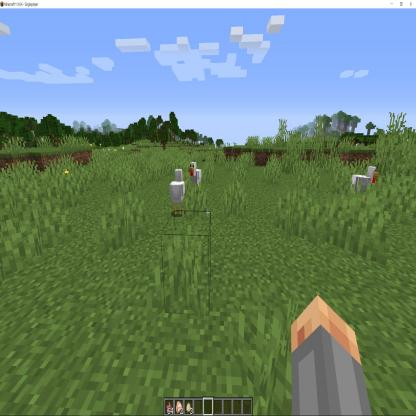minecraft-pigs: (348, 163, 378, 208), (168, 167, 186, 211), (187, 162, 204, 193)
